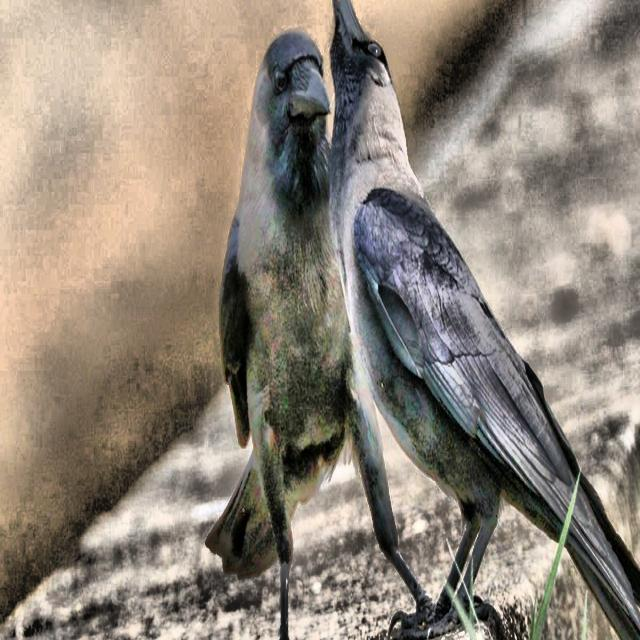crow: (195, 4, 640, 640)
